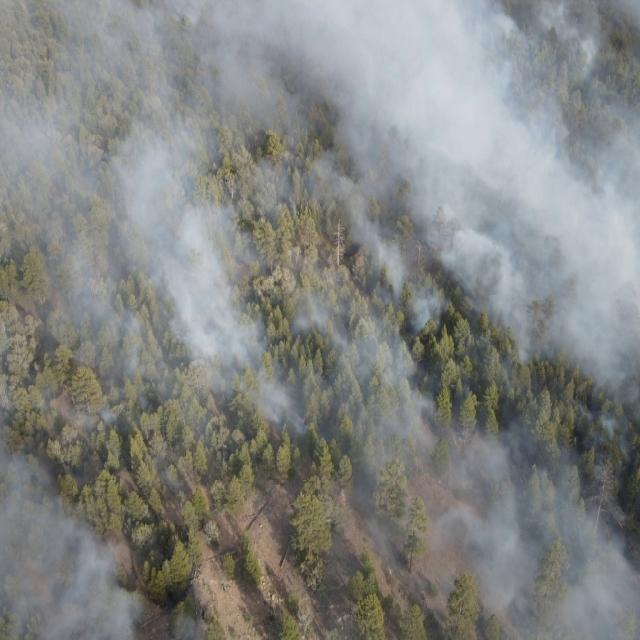fire: (615, 518, 626, 532), (351, 251, 363, 263), (120, 398, 130, 410)
smoke: (0, 0, 640, 368), (348, 367, 640, 640), (140, 368, 454, 478), (0, 431, 142, 640), (163, 612, 206, 640)
